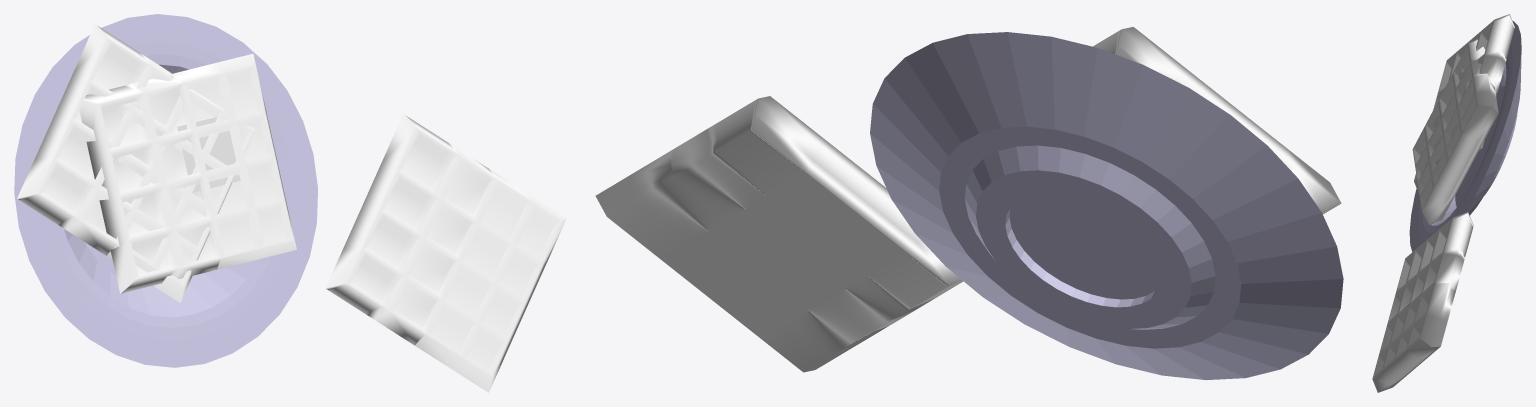
Rendered from Plate1.glb.
The picture shows the model from 3 angles, left to right: view 1: azimuth 30°, elevation 25°; view 2: azimuth 150°, elevation 25°; view 3: azimuth 270°, elevation 25°; orthographic projection. The views are drawn at different scales.
Visible parts, largest first — view 1: Cube.003, Circle, Cube, Cube.002, Plane; view 2: Circle, Cube.003, Cube.002; view 3: Cube.003, Cube, Circle, Cube.002.
Part boxes in pixels (x1,y1,x2,y2): Cube.003: (325, 114, 566, 392); Circle: (14, 14, 317, 367); Cube: (79, 53, 296, 293); Cube.002: (17, 24, 255, 302); Plane: (177, 117, 240, 192); Circle: (870, 32, 1343, 380); Cube.003: (595, 96, 963, 372); Cube.002: (1093, 27, 1341, 214); Cube.003: (1372, 212, 1473, 392); Cube: (1412, 39, 1498, 225); Circle: (1409, 21, 1521, 251); Cube.002: (1414, 14, 1514, 194).
Bounding box in the file's own units: 18.13 × 12.23 × 6.08.
